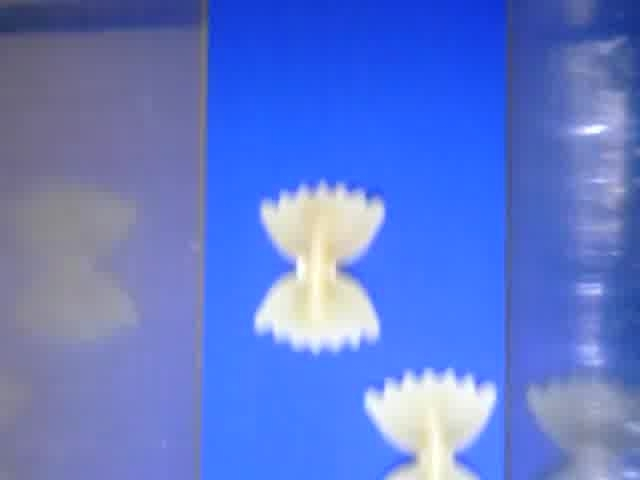farfalle: (255, 180, 382, 352), (363, 369, 497, 480)
